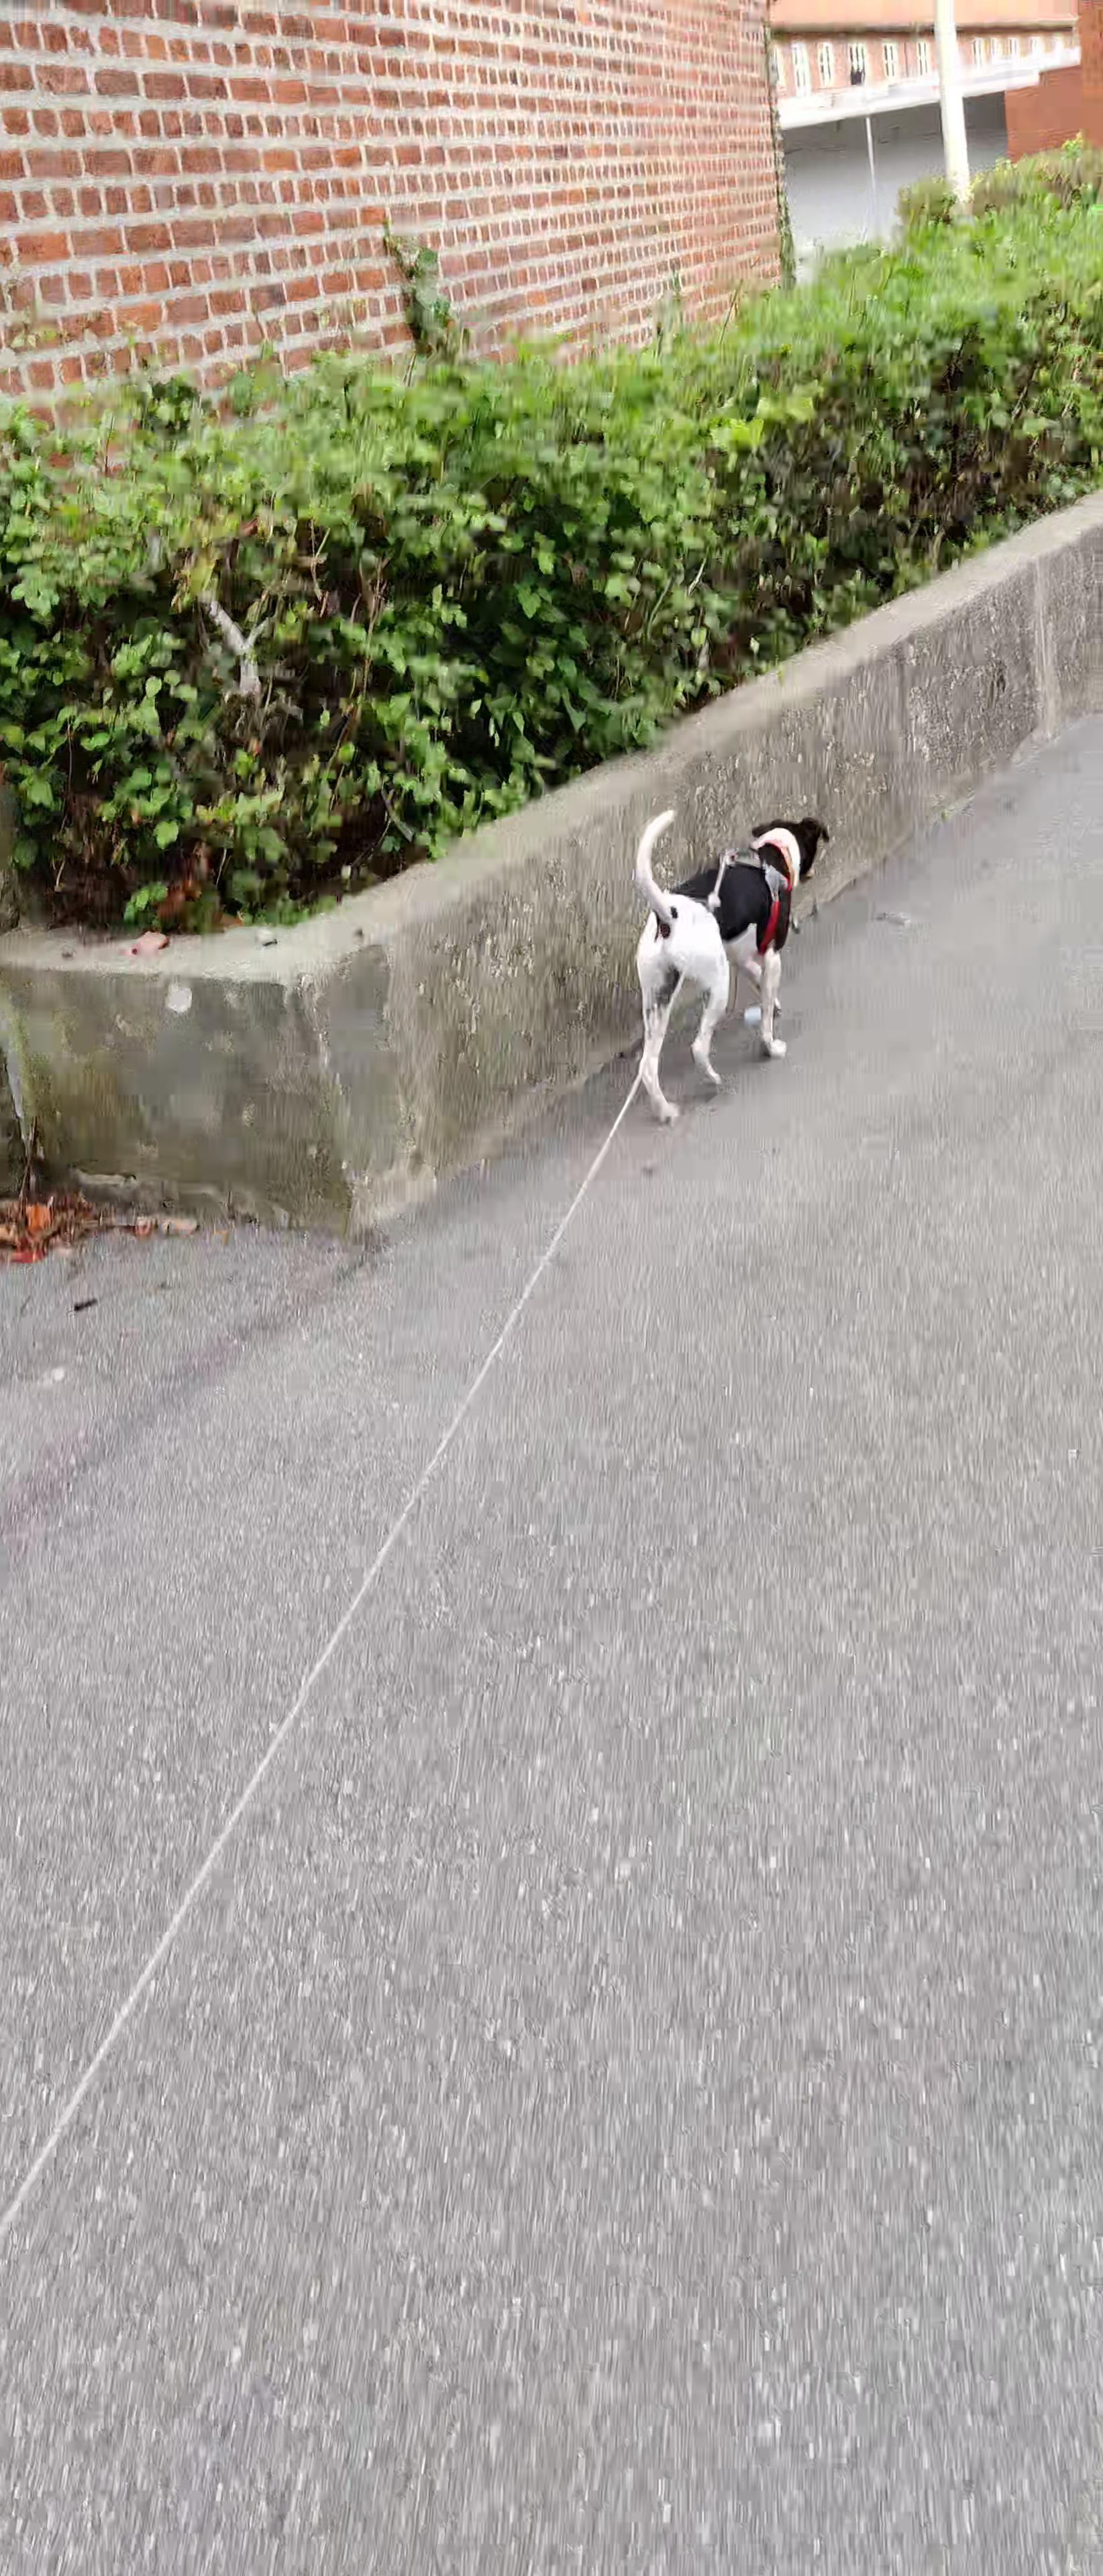Dog: (600, 790, 837, 1135)
